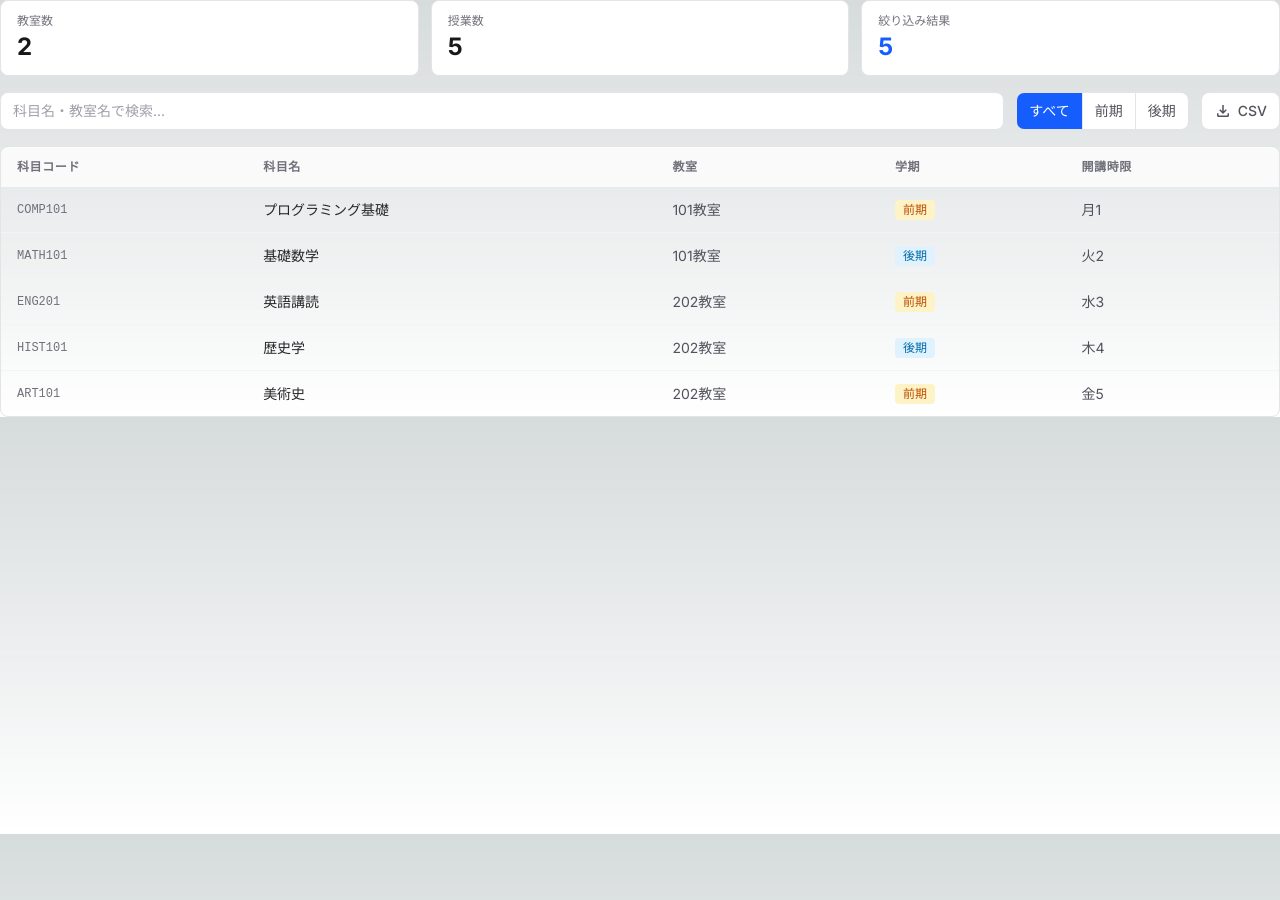
Test: SyllabusDataBrowser Component › Filtering › filters correctly by room text
The width and height of the screenshot is (1280, 900).
Type "202" into the field with placeholder "科目名・教室名で検索...". click: (502, 111)
box: [0, 92, 1004, 130]
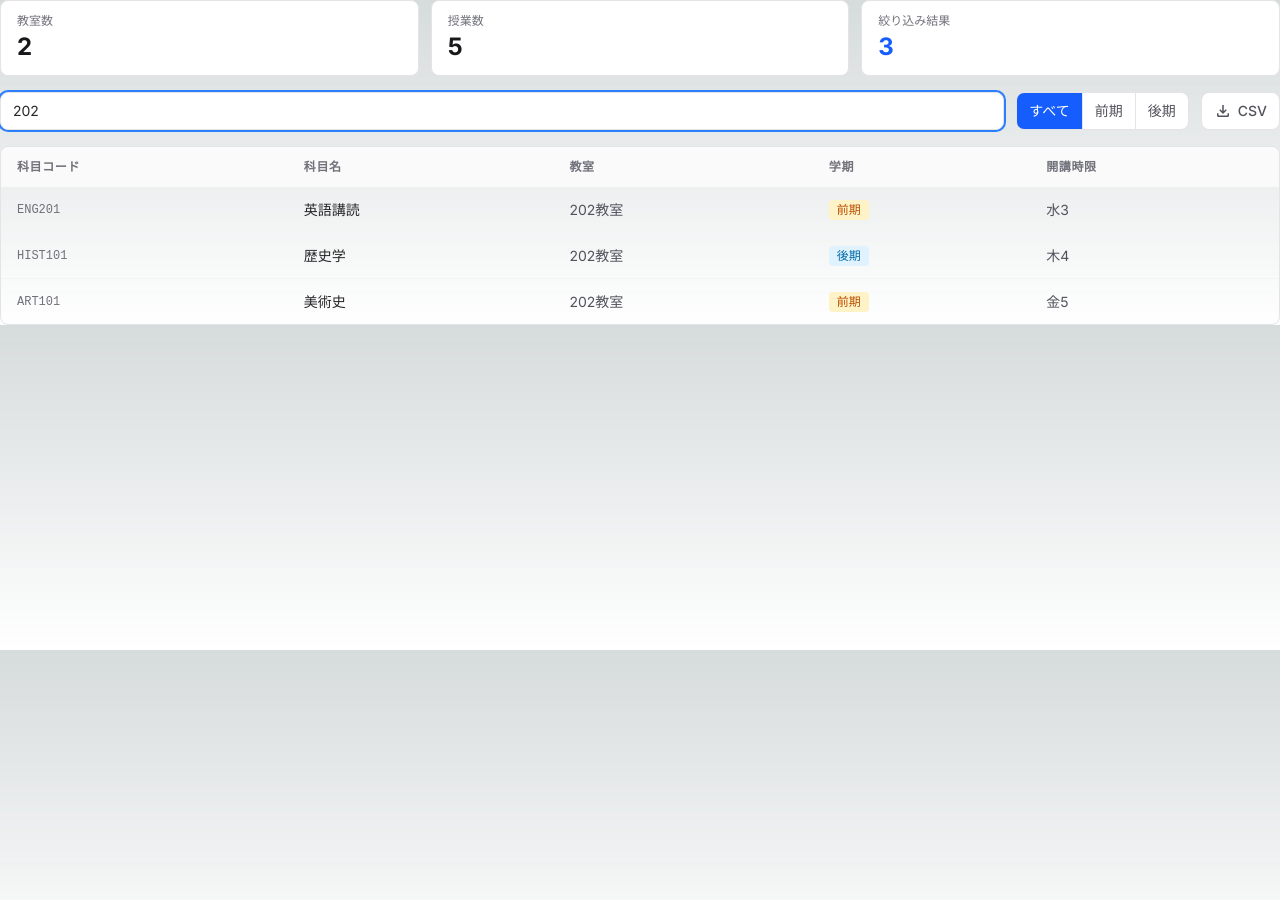
Expected: the text "英語講読" is shown, [288, 187, 553, 232]
Result: the text "プログラミング基礎" is gone
